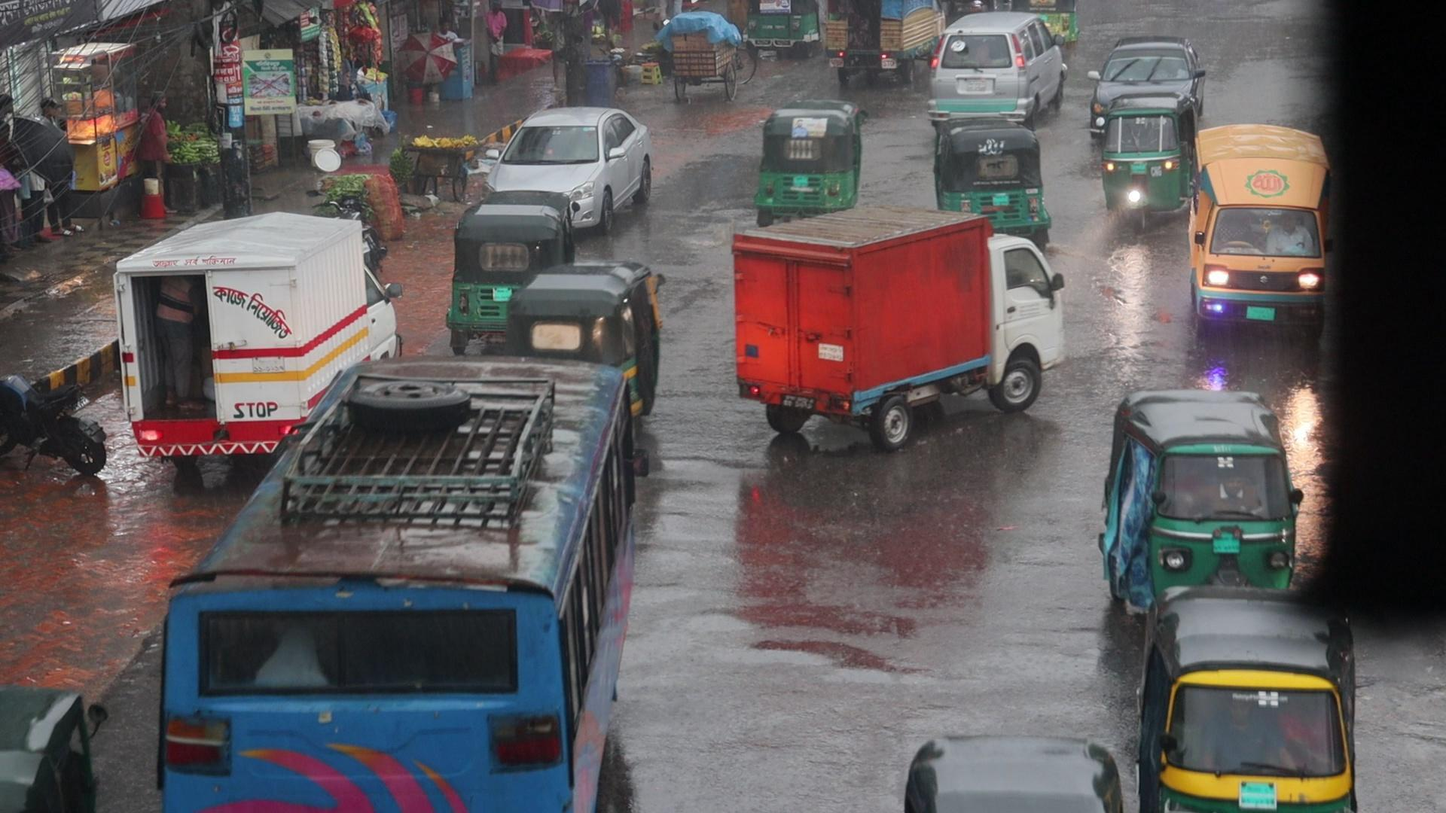Bus: (154, 352, 639, 813)
Car: (927, 12, 1067, 115), (1087, 35, 1204, 97)
Truck: (726, 205, 1067, 431), (1188, 123, 1333, 341)
